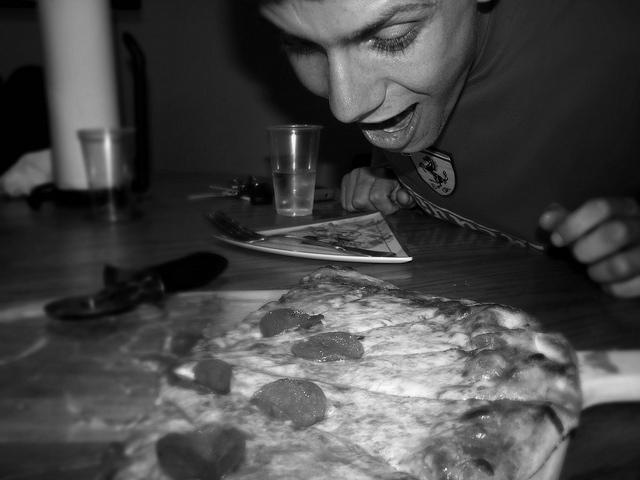glass: (247, 124, 321, 214)
